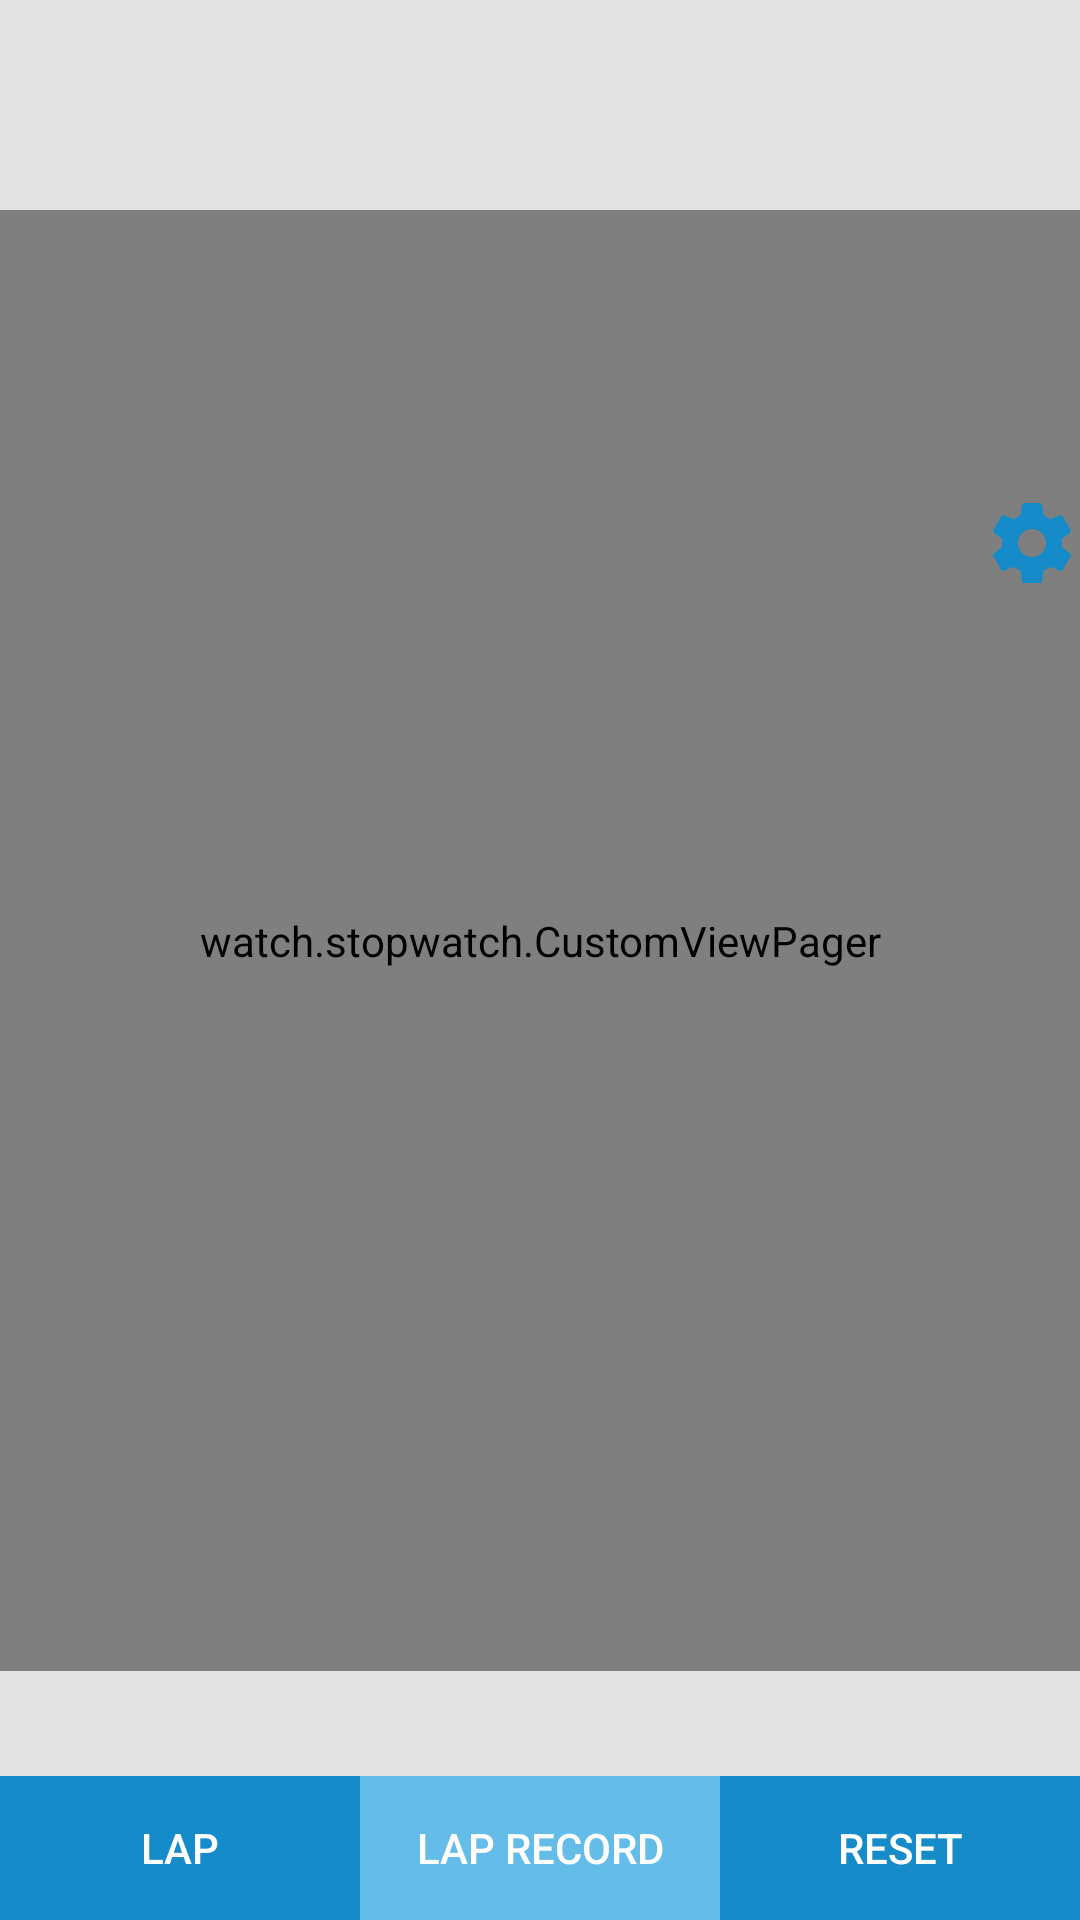

Screen size 1080x1920. Icon name, then its center in pixels as [x,y]:
settings: [1032,543]
